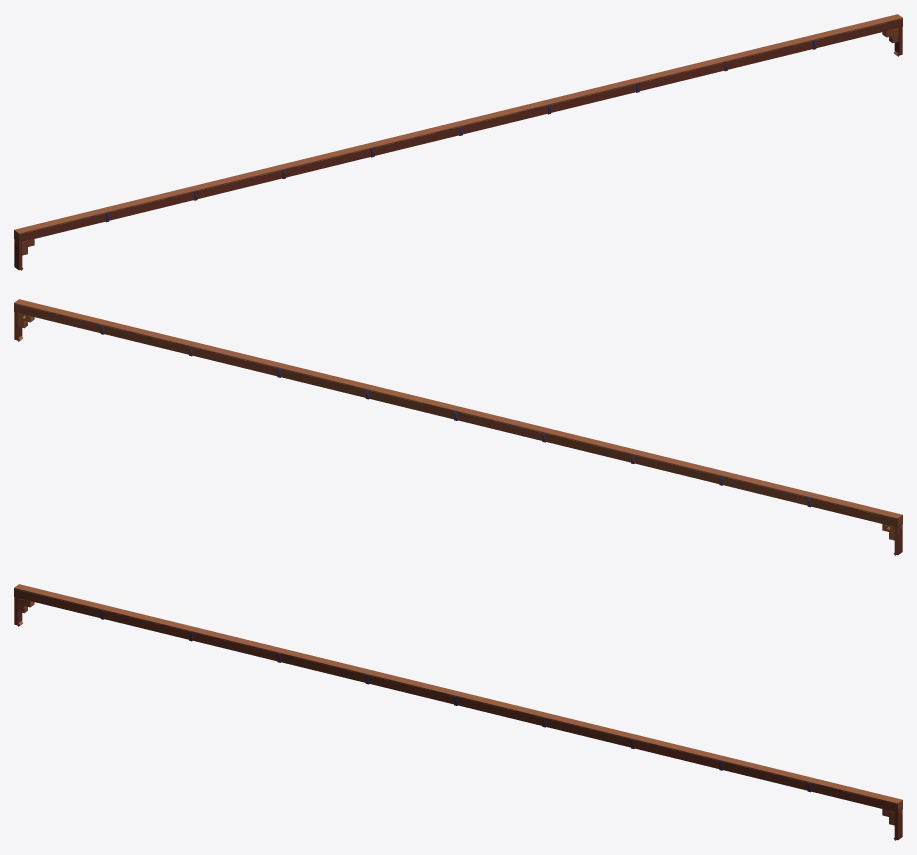
The model's file is ceiling_beam.gltf.
3 renders of one model, top to bottom at view 1: azimuth 30°, elevation 25°; view 2: azimuth 150°, elevation 25°; view 3: azimuth 330°, elevation 25°, orthographic.
Visible parts, largest first — view 1: wood_beam0, wood_beam9, wood_beam1, wood_beam2, wood_beam4, wood_beam7, wood_beam6, wood_beam3, wood_beam5, wood_beam8; view 2: wood_beam0, wood_beam9, wood_beam1, wood_beam2, wood_beam4, wood_beam7, wood_beam6, wood_beam3, wood_beam5, wood_beam8; view 3: wood_beam9, wood_beam0, wood_beam5, wood_beam7, wood_beam8, wood_beam2, wood_beam3, wood_beam4, wood_beam6, wood_beam1.
Part boxes in pixels (<box>): wood_beam0: <box>14,208,106,242</box>; wood_beam9: <box>810,14,902,47</box>; wood_beam1: <box>102,186,195,220</box>; wood_beam2: <box>191,165,283,198</box>; wood_beam4: <box>368,122,460,155</box>; wood_beam7: <box>633,57,725,90</box>; wood_beam6: <box>544,79,637,112</box>; wood_beam3: <box>279,143,372,177</box>; wood_beam5: <box>456,100,548,134</box>; wood_beam8: <box>721,35,814,69</box>; wood_beam0: <box>810,493,902,527</box>; wood_beam9: <box>14,299,106,332</box>; wood_beam1: <box>721,471,814,505</box>; wood_beam2: <box>633,450,725,483</box>; wood_beam4: <box>456,407,548,440</box>; wood_beam7: <box>191,342,283,375</box>; wood_beam6: <box>279,364,372,397</box>; wood_beam3: <box>544,428,637,462</box>; wood_beam5: <box>368,385,460,419</box>; wood_beam8: <box>102,320,195,354</box>; wood_beam9: <box>810,778,902,812</box>; wood_beam0: <box>14,584,106,617</box>; wood_beam5: <box>456,692,548,725</box>; wood_beam7: <box>633,735,725,768</box>; wood_beam8: <box>721,756,814,790</box>; wood_beam2: <box>191,627,283,660</box>; wood_beam3: <box>279,649,372,682</box>; wood_beam4: <box>368,670,460,704</box>; wood_beam6: <box>544,713,637,747</box>; wood_beam1: <box>102,605,195,639</box>.
Bounding box in the file's own units: 20 × 0.8424 × 0.224.
2 materials, 2 textured.
